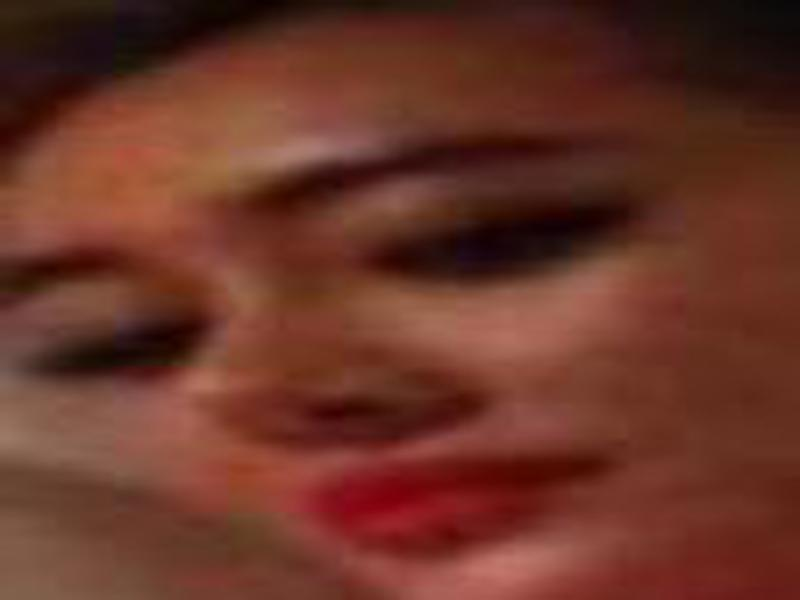without_mask: (14, 46, 766, 600)
